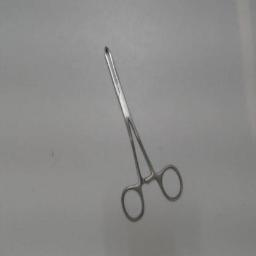Allis Tissue Forceps: (99, 40, 187, 226)
